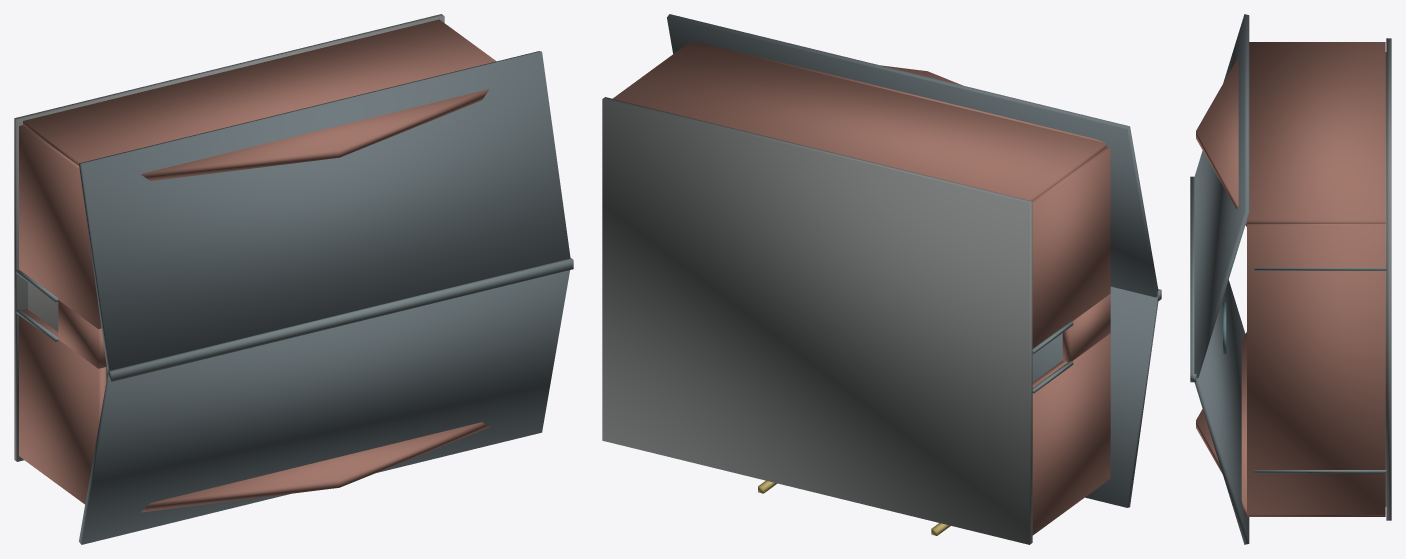
File: workshop.glb
3 renders of one model, left to right at view 1: azimuth 30°, elevation 25°; view 2: azimuth 150°, elevation 25°; view 3: azimuth 270°, elevation 25°, orthographic. The views are drawn at different scales.
Parts seen in each view (by area): view 1: workshop; view 2: workshop; view 3: workshop.
Part boxes in pixels (x1=…): workshop: x1=14, y1=14, x2=573, y2=544; workshop: x1=602, y1=14, x2=1161, y2=544; workshop: x1=1190, y1=14, x2=1391, y2=544.
Bounding box in the file's own units: 14.65 × 11.54 × 6.3.
